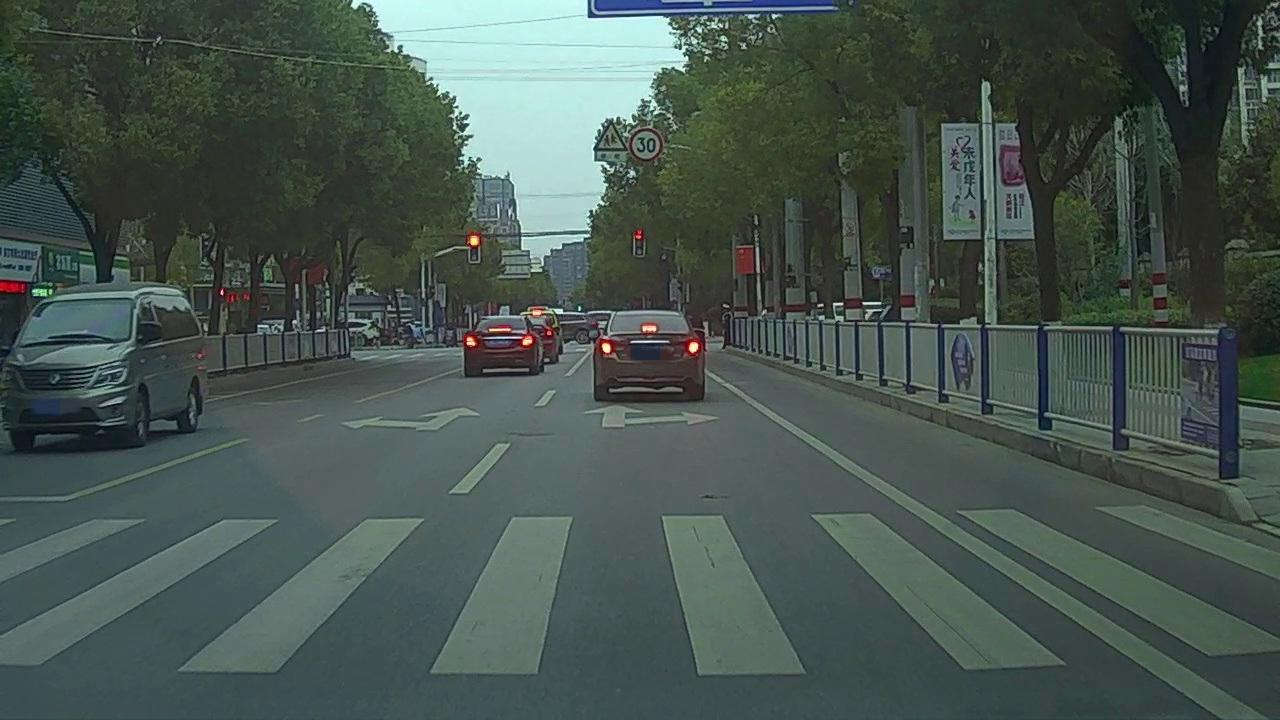traffic_light: (634, 229, 645, 255), (470, 234, 479, 261)
